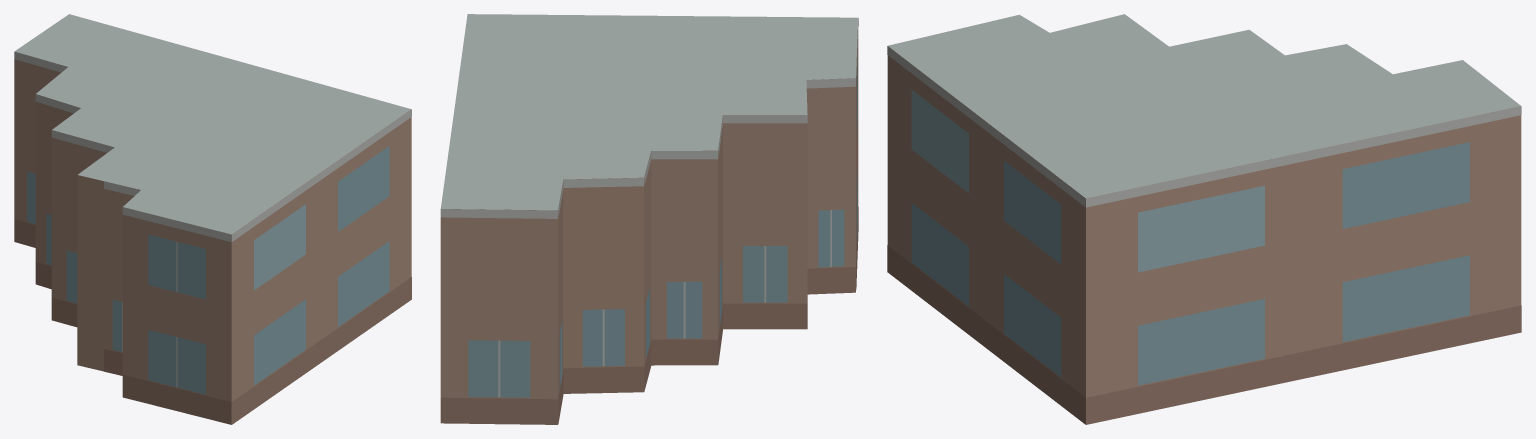
File: survey-upis-32568529.glb
The picture shows the model from 3 angles, left to right: view 1: azimuth 30°, elevation 25°; view 2: azimuth 150°, elevation 25°; view 3: azimuth 270°, elevation 25°; orthographic projection. The views are drawn at different scales.
Visible parts, largest first — view 1: survey-upis-32568529.tmp; view 2: survey-upis-32568529.tmp; view 3: survey-upis-32568529.tmp.
Part boxes in pixels (bbox=[...]): survey-upis-32568529.tmp: bbox=[14, 14, 411, 424]; survey-upis-32568529.tmp: bbox=[440, 14, 858, 424]; survey-upis-32568529.tmp: bbox=[887, 14, 1521, 424].
Bounding box in the file's own units: 10.67 × 6.1 × 15.5.
